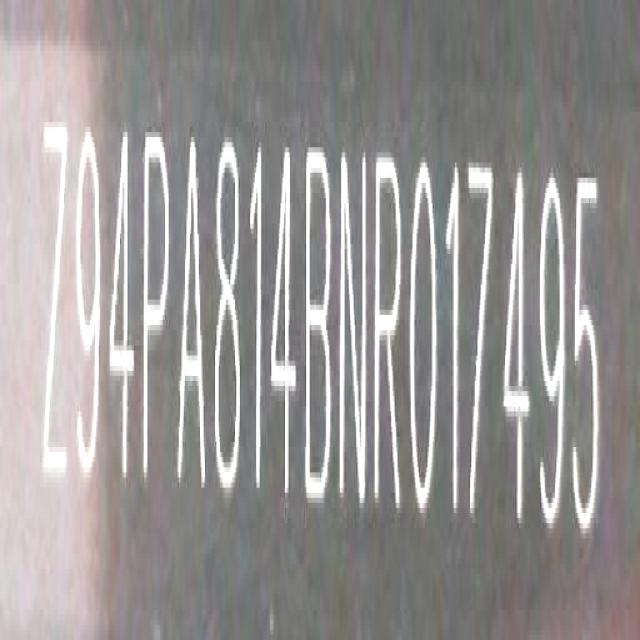0: (409, 153, 442, 523)
1: (442, 162, 462, 523), (251, 135, 268, 506)
4: (271, 134, 301, 507), (502, 164, 531, 544), (109, 120, 138, 496)
5: (573, 163, 604, 548)
7: (464, 150, 494, 532)
8: (212, 132, 244, 500)
9: (537, 167, 570, 542), (73, 125, 103, 494)
A: (179, 125, 211, 499)
B: (304, 142, 338, 512)
N: (340, 146, 370, 517)
P: (142, 127, 174, 497)
R: (374, 148, 407, 520)
Z: (40, 120, 71, 497)
